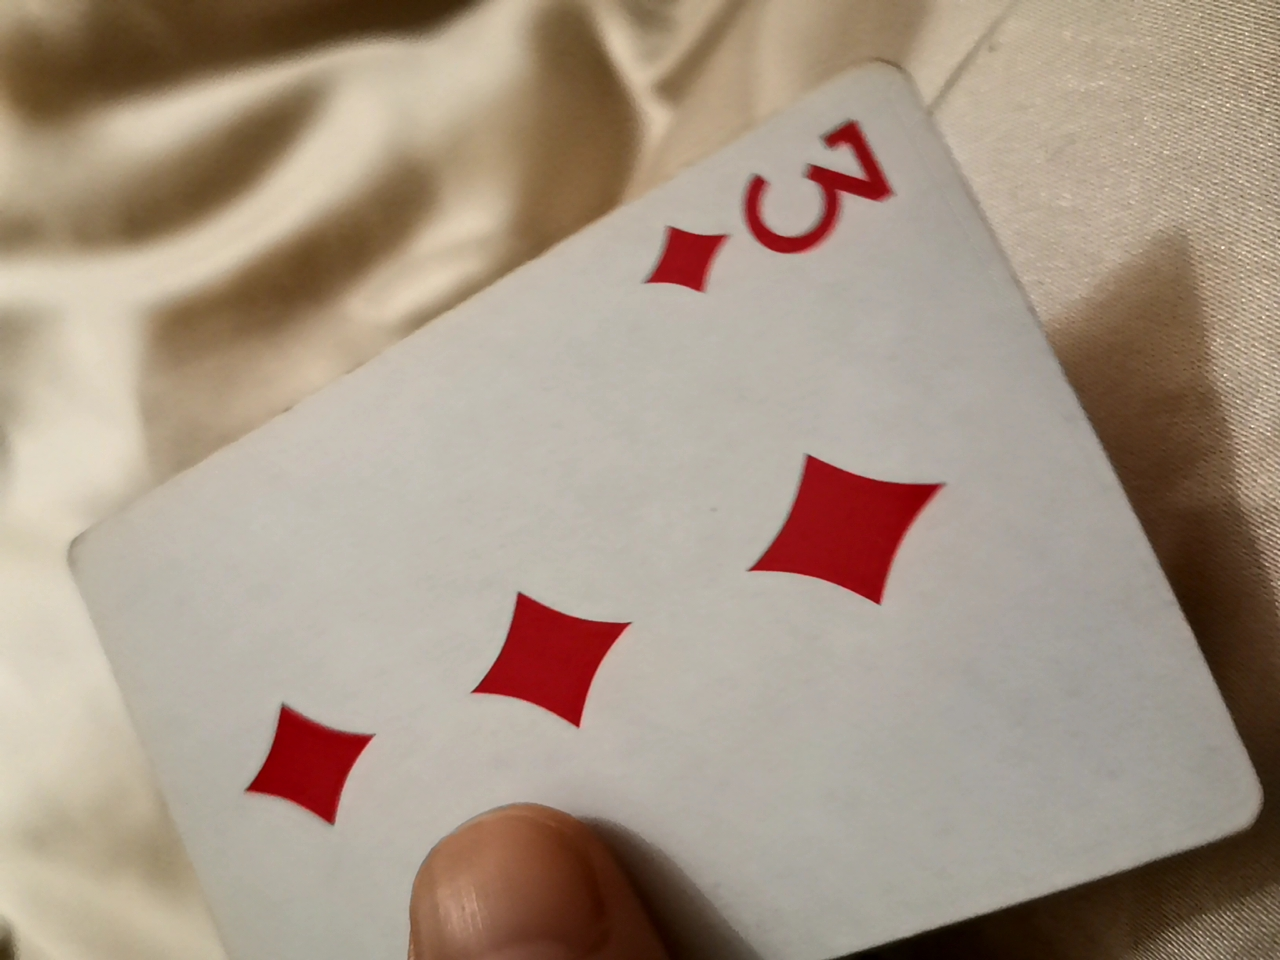fk 3: (94, 91, 1269, 953)
